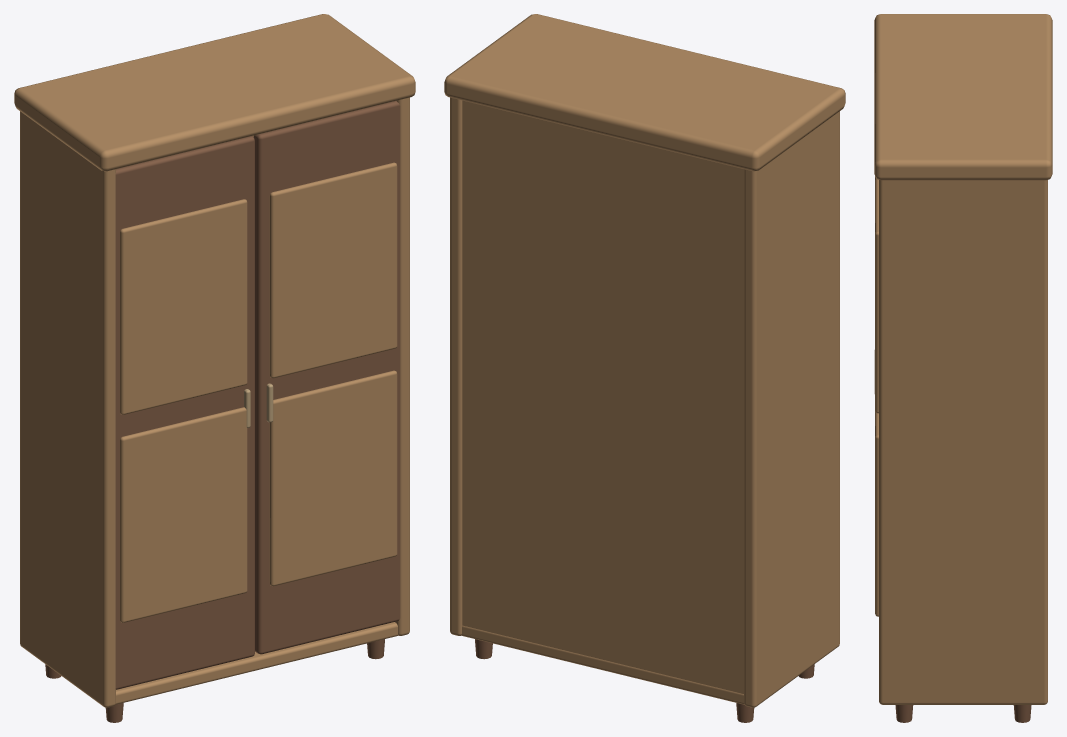
File: wardrobe.glb
The picture shows the model from 3 angles, left to right: view 1: azimuth 30°, elevation 25°; view 2: azimuth 150°, elevation 25°; view 3: azimuth 270°, elevation 25°; orthographic projection. The views are drawn at different scales.
Visible parts, largest first — view 1: wardrobe-case-side--1, moulded-crown, framed-door-1, framed-door--1, raised-door-panel-1-0-7, raised-door-panel-1-0-3, raised-door-panel--1-0-7, raised-door-panel--1-0-3, wardrobe-case-side-1, wardrobe-case-base; view 2: wardrobe-case-back, wardrobe-case-side--1, moulded-crown, wardrobe-case-side-1, wardrobe-case-base; view 3: wardrobe-case-side-1, moulded-crown, raised-door-panel-1-0-7, raised-door-panel-1-0-3.
Boxes of the visible parts, x1,y1,x2,y2 form: wardrobe-case-side--1: (20, 111, 115, 707); moulded-crown: (14, 14, 415, 171); framed-door-1: (253, 101, 400, 654); framed-door--1: (115, 136, 254, 689); raised-door-panel-1-0-7: (269, 162, 397, 378); raised-door-panel-1-0-3: (269, 370, 397, 586); raised-door-panel--1-0-7: (120, 199, 247, 414); raised-door-panel--1-0-3: (120, 407, 247, 622); wardrobe-case-side-1: (395, 97, 409, 635); wardrobe-case-base: (115, 622, 398, 704); wardrobe-case-back: (462, 100, 743, 693); wardrobe-case-side--1: (744, 111, 839, 707); moulded-crown: (444, 14, 845, 171); wardrobe-case-side-1: (450, 97, 462, 635); wardrobe-case-base: (461, 625, 744, 704); wardrobe-case-side-1: (879, 180, 1047, 704); moulded-crown: (874, 14, 1052, 180); raised-door-panel-1-0-7: (875, 176, 878, 413); raised-door-panel-1-0-3: (875, 411, 878, 616).
Bounding box in the file's own units: 1.4 × 2.47 × 0.7.
